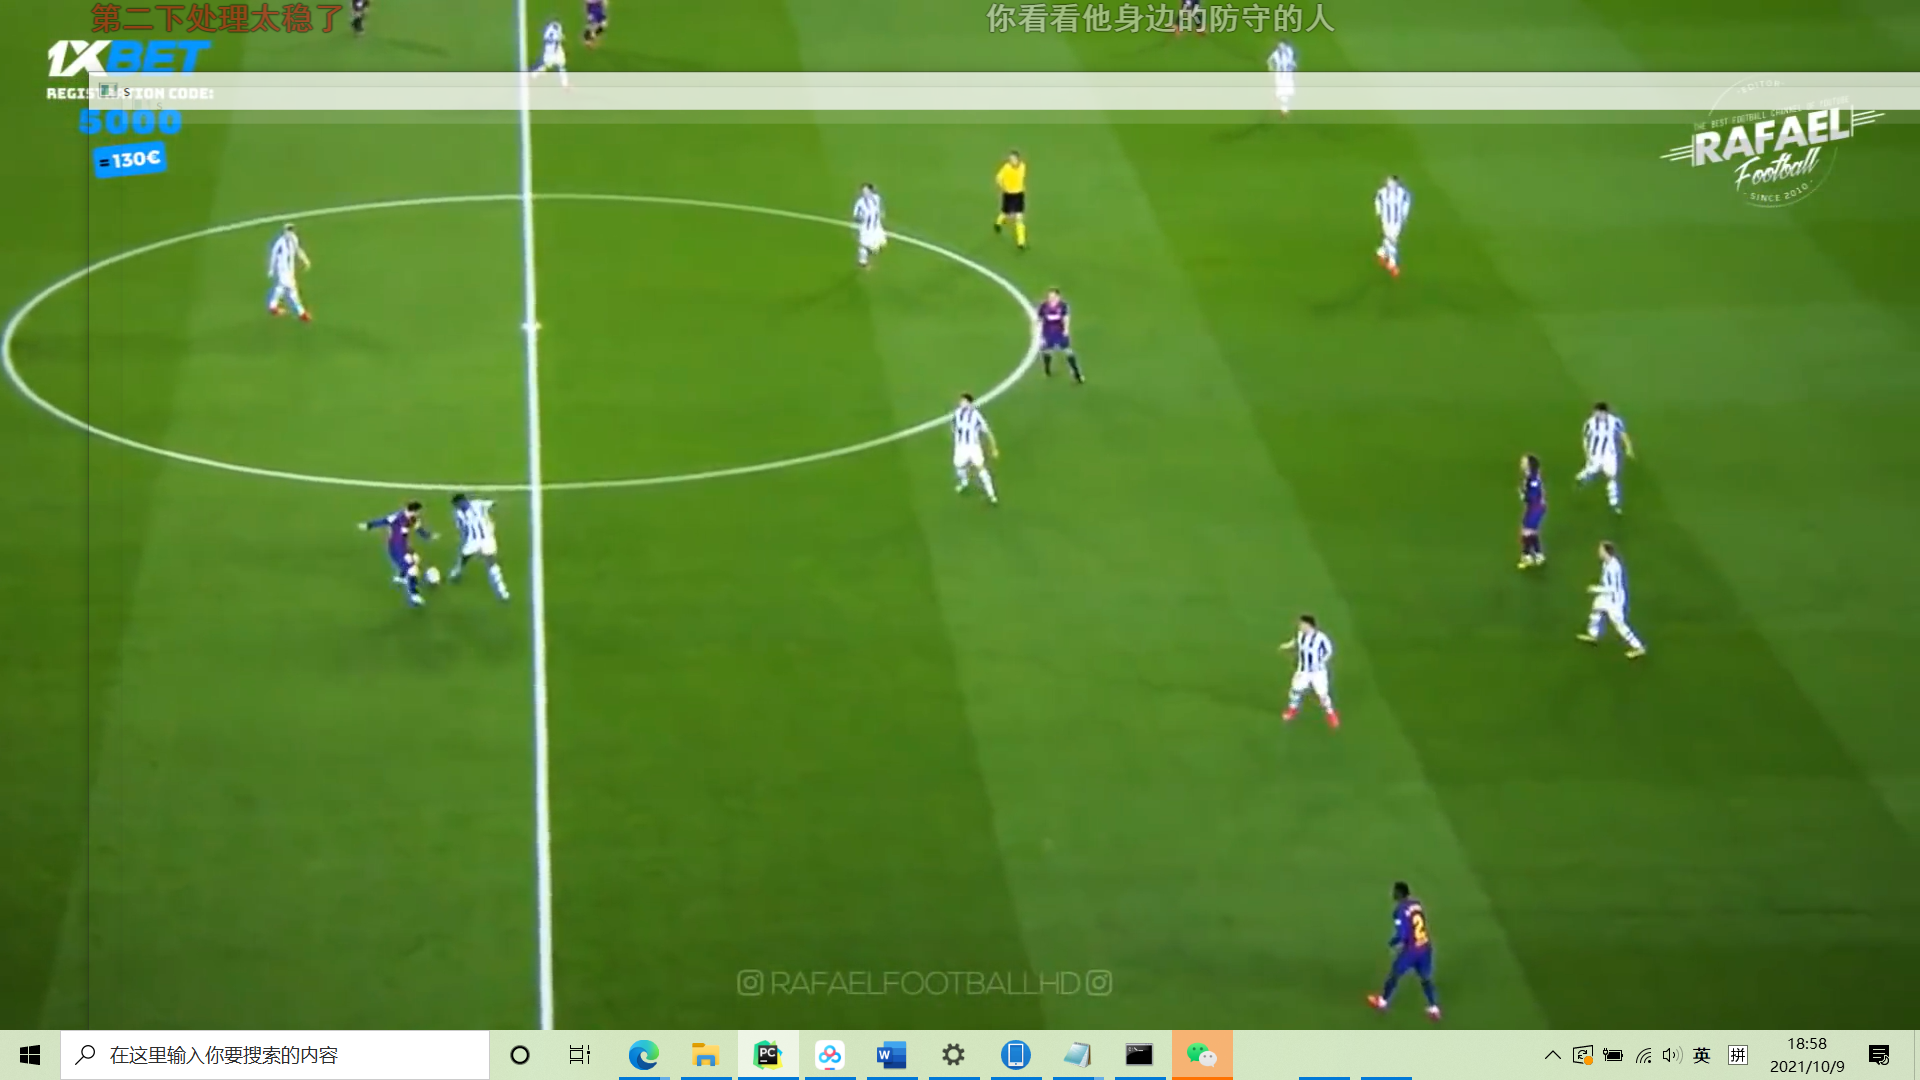ft: (422, 564, 442, 588)
